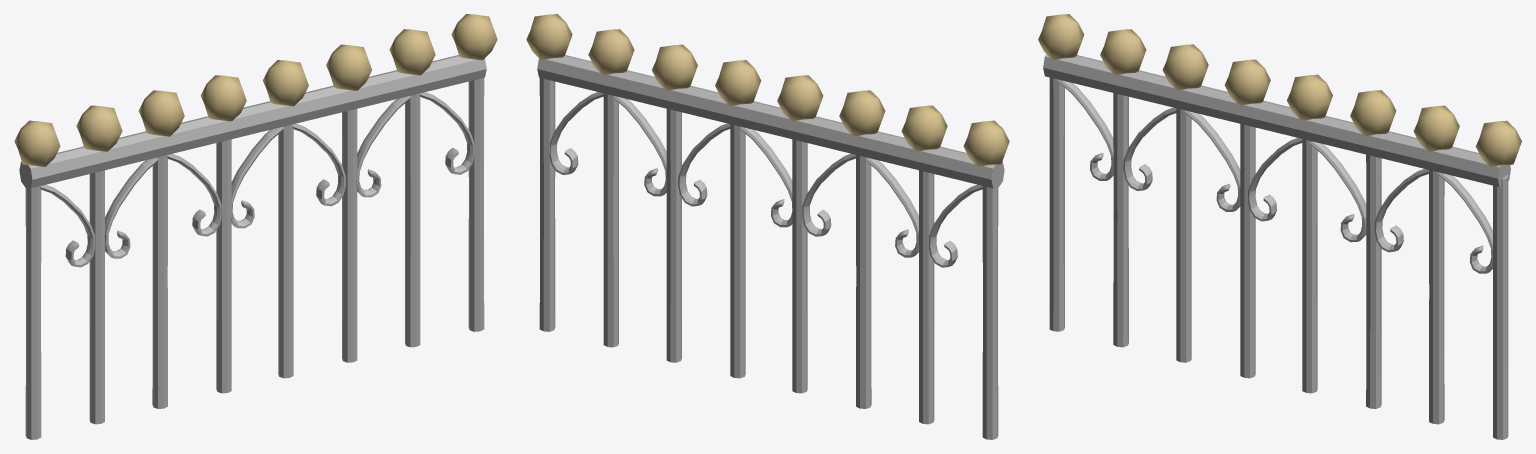
Rendered from fence decorative.fbx.
3 views of the same model, side by side, from view 1: azimuth 30°, elevation 25°; view 2: azimuth 150°, elevation 25°; view 3: azimuth 330°, elevation 25° (orthographic).
Visible parts, largest first — view 1: top1, pCube9.002, pCube13.002, pCube16.002, pCube12.002, pCube15.002, pCube11.002, pCube10.002, pCube14.002, pCube20.001, pCube17.001, pCube18.001 (+12 smaller); view 2: top1, pCube9.002, pCube13.002, pCube16.002, pCube12.002, pCube15.002, pCube11.002, pCube10.002, pCube14.002, pCube17.001, pCube20.001, pCube18.001 (+12 smaller); view 3: top1, pCube14.002, pCube9.002, pCube12.002, pCube13.002, pCube16.002, pCube10.002, pCube15.002, pCube11.002, pCube22.001, pCube20.001, pCube23.001 (+12 smaller).
Part boxes in pixels (box(x1,y1,x2,y2)): top1: box(19, 55, 486, 188); pCube9.002: box(25, 186, 41, 439); pCube13.002: box(405, 93, 420, 347); pCube16.002: box(278, 124, 293, 378); pCube12.002: box(152, 155, 167, 408); pCube15.002: box(342, 109, 357, 362); pCube11.002: box(216, 139, 231, 393); pCube10.002: box(89, 170, 104, 424); pCube14.002: box(468, 78, 484, 331); pCube20.001: box(138, 90, 184, 136); pCube17.001: box(14, 120, 60, 166); pCube18.001: box(76, 105, 122, 151); top1: box(537, 55, 1004, 188); pCube9.002: box(982, 186, 998, 439); pCube13.002: box(603, 93, 618, 347); pCube16.002: box(730, 124, 745, 378); pCube12.002: box(856, 155, 871, 408); pCube15.002: box(666, 109, 681, 362); pCube11.002: box(792, 139, 807, 393); pCube10.002: box(919, 170, 934, 424); pCube14.002: box(539, 78, 555, 331); pCube17.001: box(963, 120, 1009, 166); pCube20.001: box(839, 90, 885, 136); pCube18.001: box(901, 105, 947, 151); top1: box(1043, 54, 1510, 187); pCube14.002: box(1493, 175, 1508, 439); pCube9.002: box(1049, 77, 1064, 331); pCube12.002: box(1176, 108, 1191, 362); pCube13.002: box(1429, 170, 1444, 424); pCube16.002: box(1302, 139, 1317, 393); pCube10.002: box(1113, 93, 1128, 347); pCube15.002: box(1366, 154, 1381, 408); pCube11.002: box(1240, 124, 1255, 378); pCube22.001: box(1475, 120, 1521, 166); pCube20.001: box(1162, 44, 1208, 90); pCube23.001: box(1350, 90, 1396, 136).
Size of the model in its own units: 70.47 by 44.47 by 5.71.
